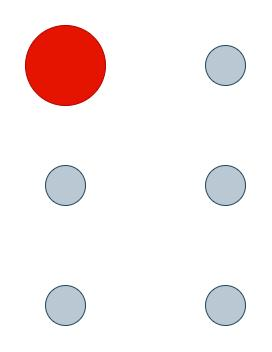A: (19, 19, 260, 339)
